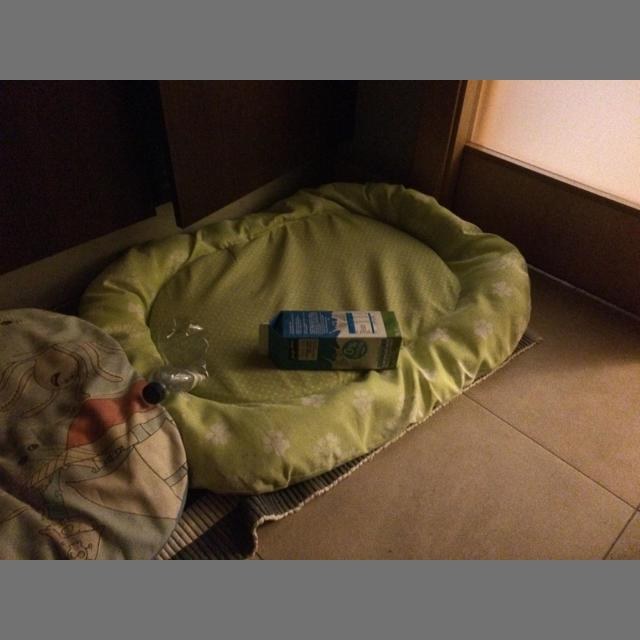litter: (257, 311, 402, 369), (142, 316, 211, 405), (143, 384, 162, 404)
